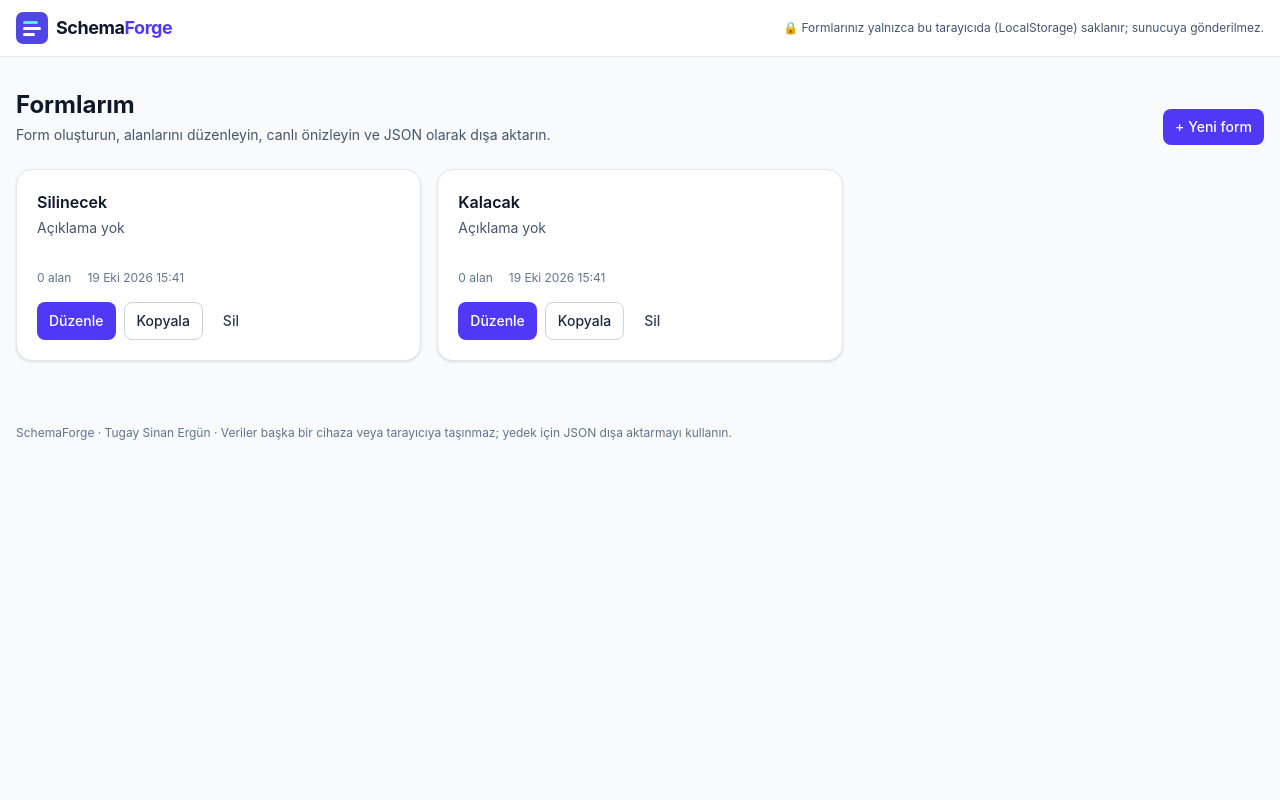
Test: SchemaForge user scenarios › 8. deletes a form only after confirmation
Click the button with aria-label "Silinecek formunu sil".
click(231, 321)  # box [211,302,251,340]
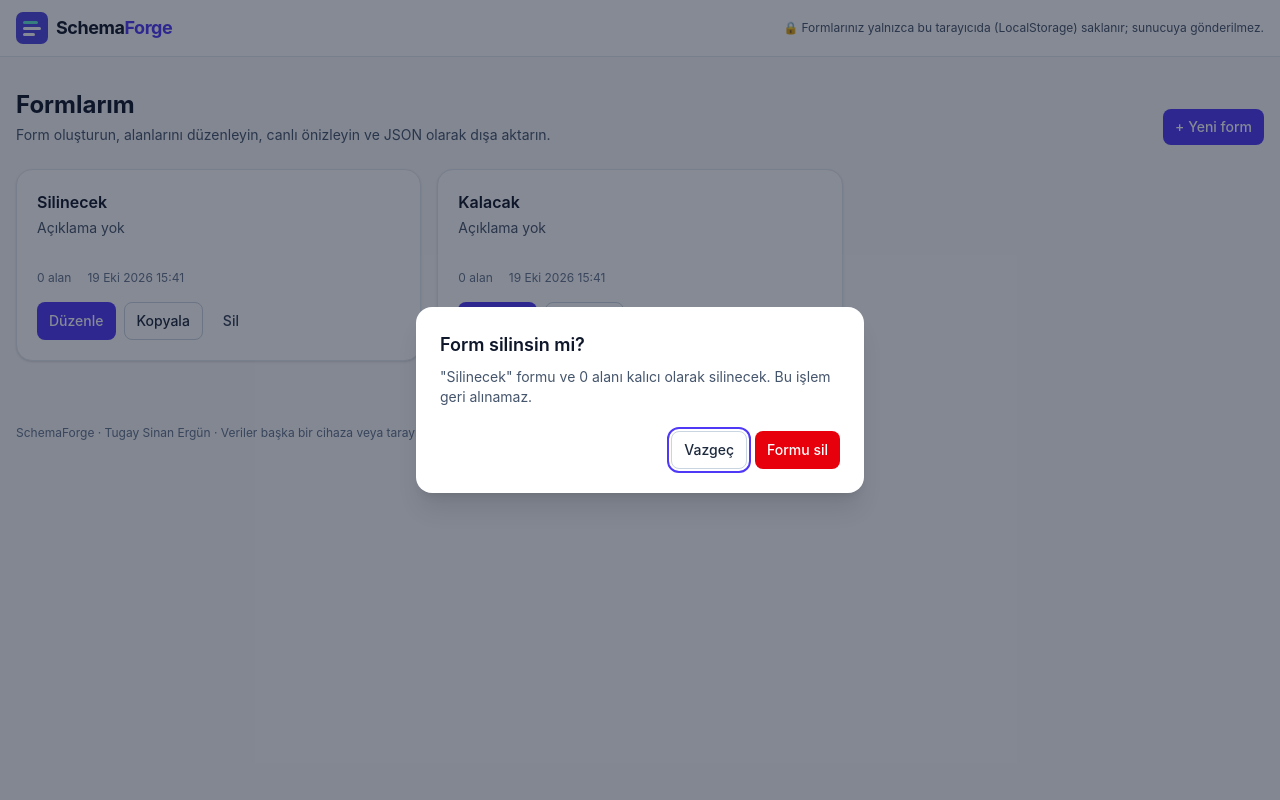
Press Escape
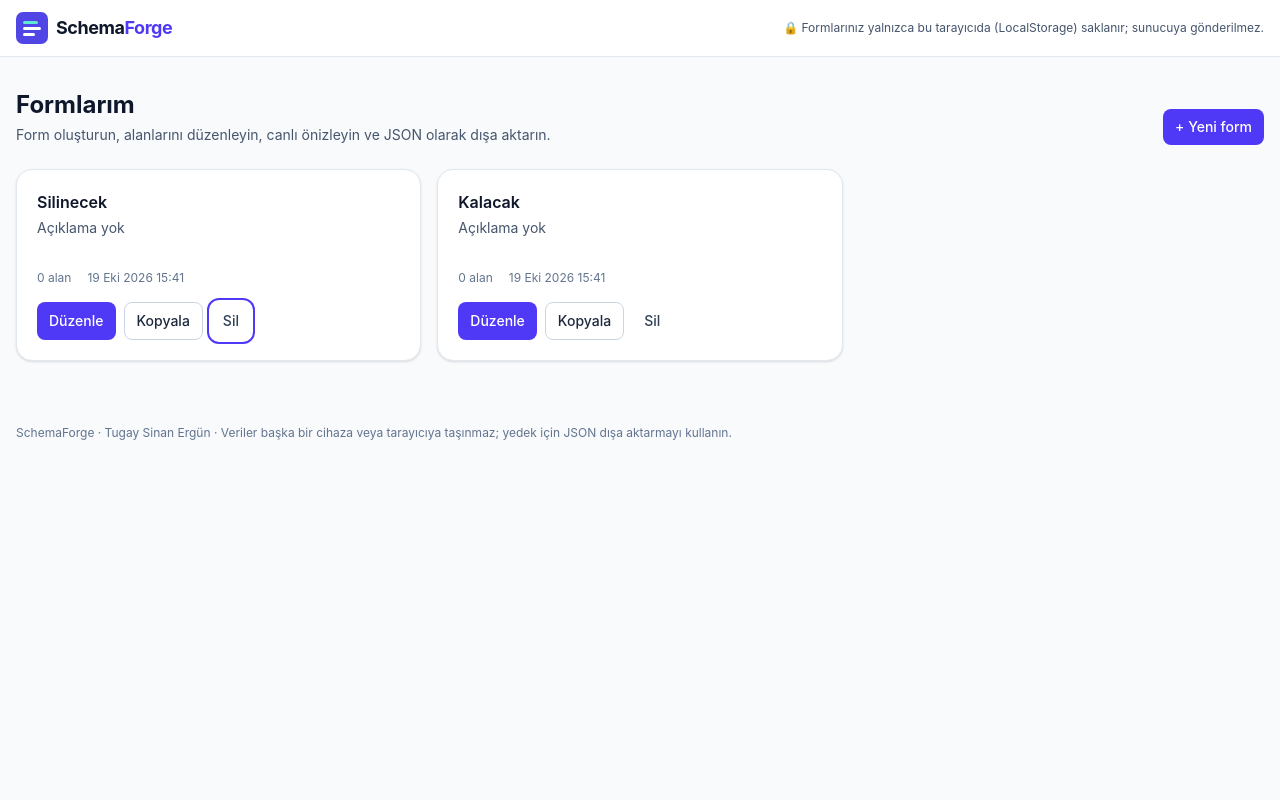
Check: the heading "Silinecek" is shown, box [37,192,107,212]
Check: the dialog is gone
Click the button with aria-label "Silinecek formunu sil".
click(231, 321)  # box [211,302,251,340]
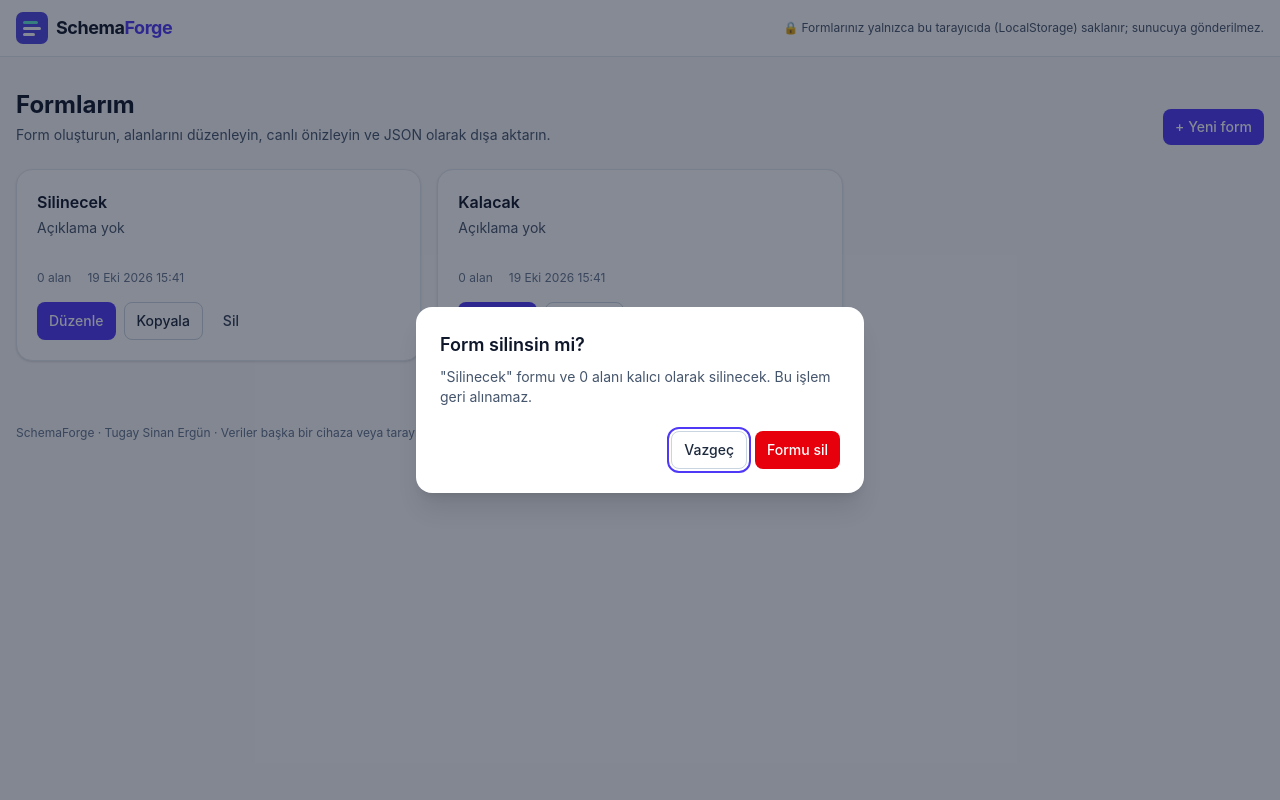
Click the button "Formu sil".
click(798, 450)  # box [755,431,840,469]
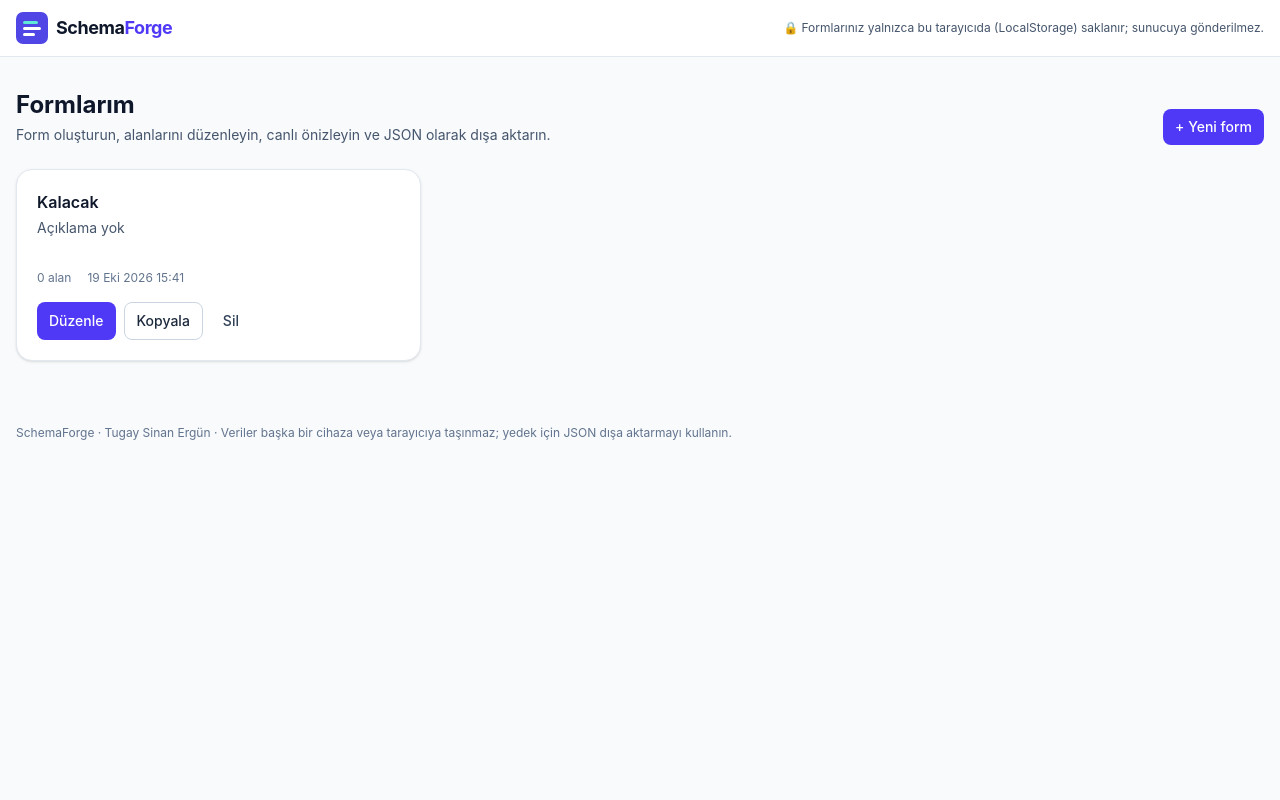
Check: the heading "Silinecek" is gone
